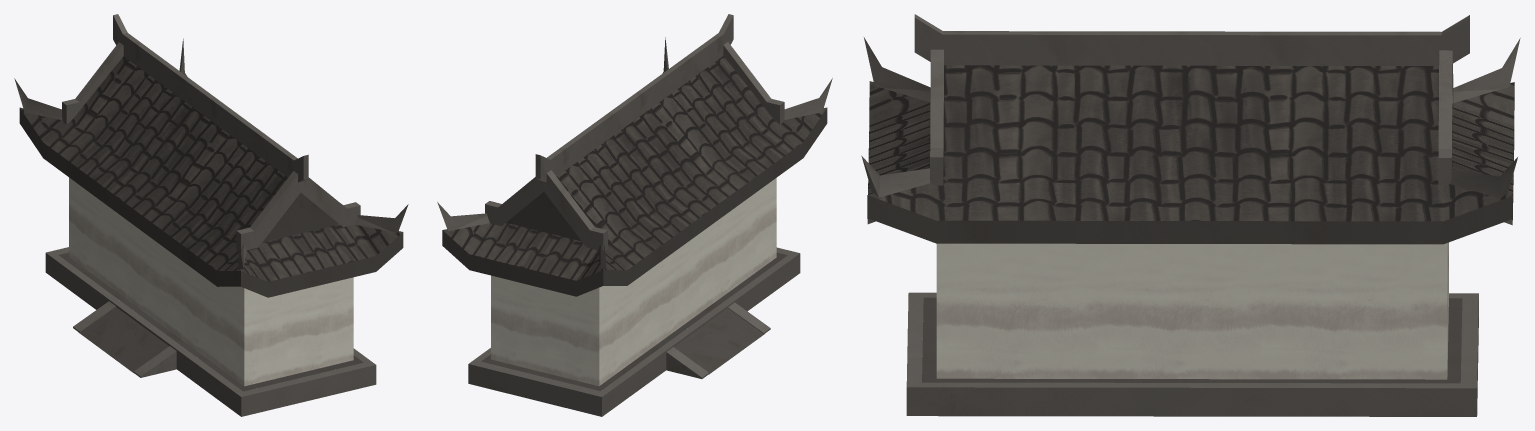
File: MinJu05.fbx
3 views of the same model, side by side, from view 1: azimuth 30°, elevation 25°; view 2: azimuth 150°, elevation 25°; view 3: azimuth 270°, elevation 25° (orthographic). The views are drawn at different scales.
Visible parts, largest first — view 1: minju05; view 2: minju05; view 3: minju05.
Part boxes in pixels (x1,y1,x2,y2): minju05: [14, 14, 408, 416]; minju05: [437, 14, 832, 416]; minju05: [861, 14, 1520, 416].
Bounding box in the file's own units: 187 × 231 × 391.
